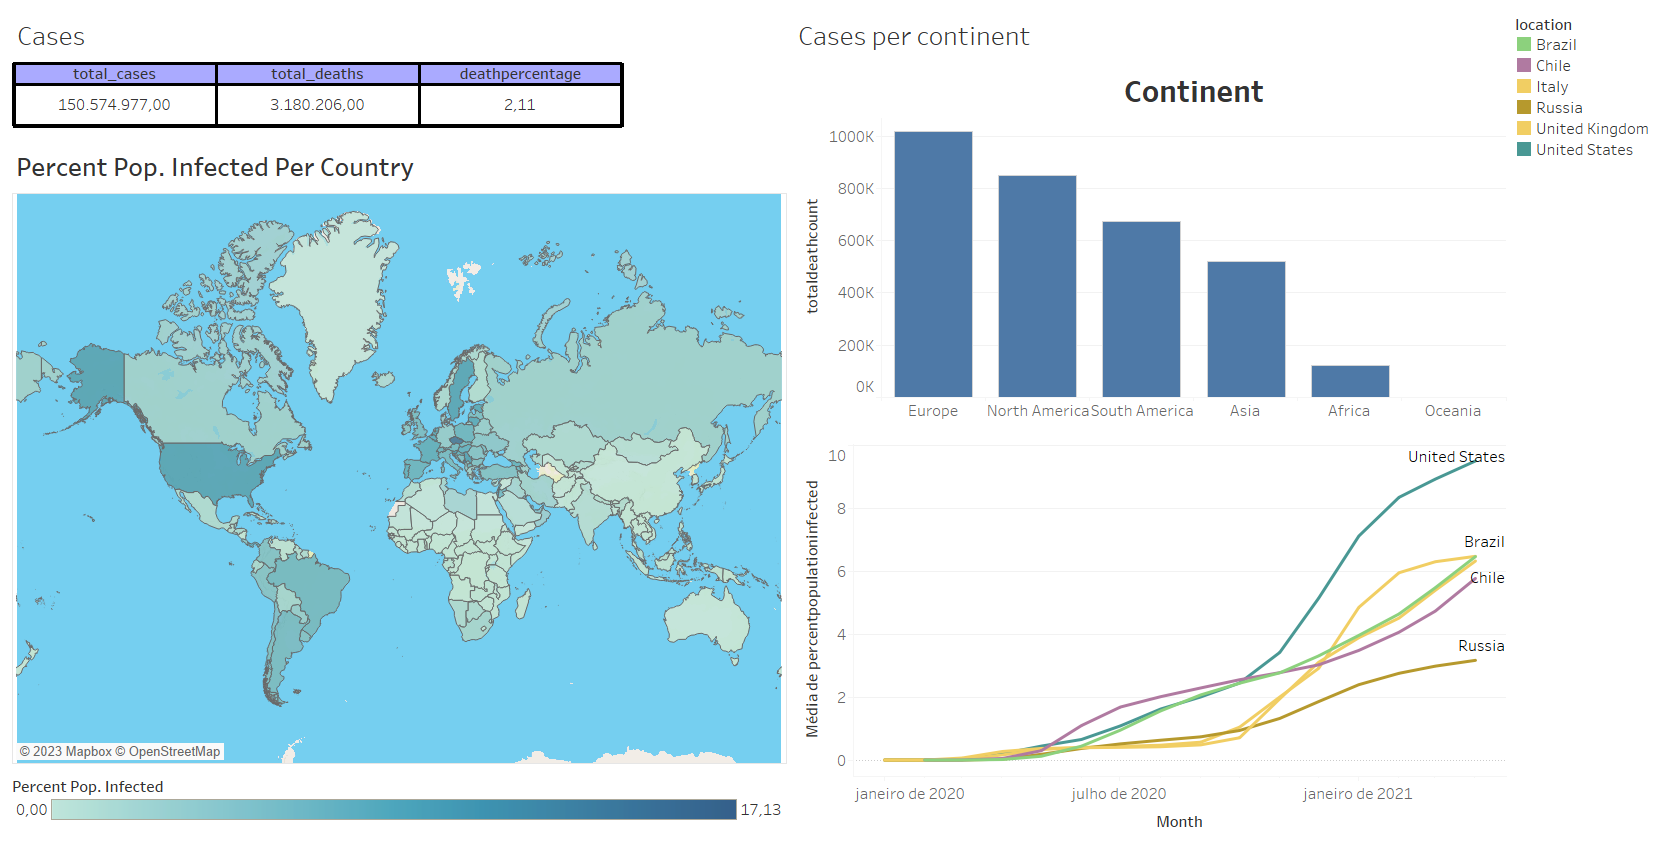

What the dashboard file says about the page in this screenshot:
{"tool":"tableau","page":{"name":"Dashboard 1","canvas":[1000,1000],"units":"permille","ordinal":0},"visuals":[{"type":"worksheet","title":"Sheet 1","mark":"Automatic","box":[6.4,9.4,447.7,153.9]},{"type":"worksheet","title":"Sheet 2","mark":"Automatic","rows":["totaldeathcount"],"cols":["location"],"box":[454.1,9.4,412.3,490.6]},{"type":"legend","title":"Sheet 4","param":"[federated.01luxnc1bchrmd1ehlojq1nxisoh].[none:location:nk]","box":[866.4,9.4,127.3,182.1]},{"type":"worksheet","title":"Sheet 3","mark":"Automatic","box":[6.4,163.3,447.7,739.1]},{"type":"worksheet","title":"Sheet 4","mark":"Automatic","rows":["percentpopulationinfected"],"cols":["date"],"box":[454.1,500,412.3,490.6]},{"type":"legend","title":"Sheet 3","param":"[federated.15cthgo1h46r2j1g3bghi0ejck6r].[sum:percentpopulationinfected:qk]","box":[6.4,902.5,447.7,88.1]}]}

Visuals, with their boxes on the dashboard's canvas, which has no fixed pixel size, in thousandths of its width and height (x1, y1, x2, y2). These are canvas units, not pixel positions in the 1678x851 screenshot, which may show the page scaled, cropped or inside an application window:
"Sheet 1" worksheet: pyautogui.locateOnScreen(6, 9, 454, 163)
"Sheet 2" worksheet: pyautogui.locateOnScreen(454, 9, 866, 500)
"Sheet 4" legend: pyautogui.locateOnScreen(866, 9, 994, 192)
"Sheet 3" worksheet: pyautogui.locateOnScreen(6, 163, 454, 902)
"Sheet 4" worksheet: pyautogui.locateOnScreen(454, 500, 866, 991)
"Sheet 3" legend: pyautogui.locateOnScreen(6, 902, 454, 991)
